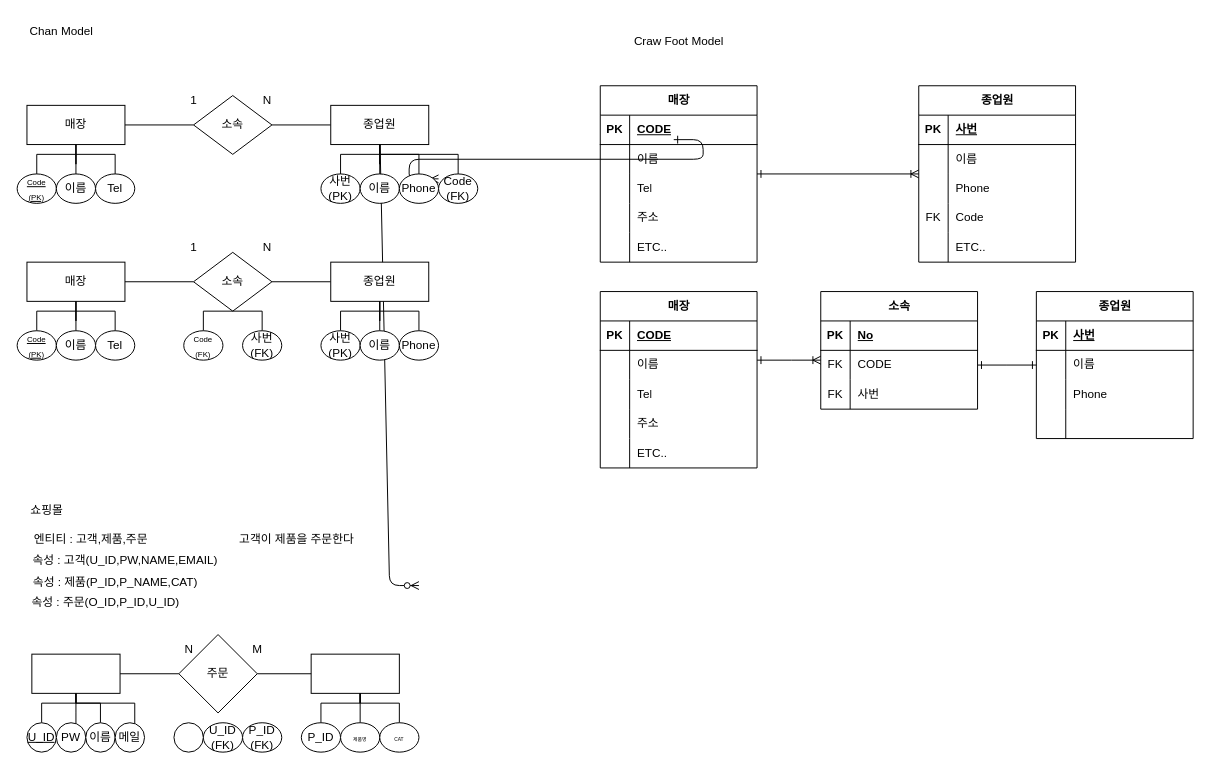
This 1210x769 diagram has some shape labels left out. Here are the shapes that lost their labels. From the top down, the centre of each, then its label:
(75,673): 고객
(354,673): 제품
(188,737): O_ID
